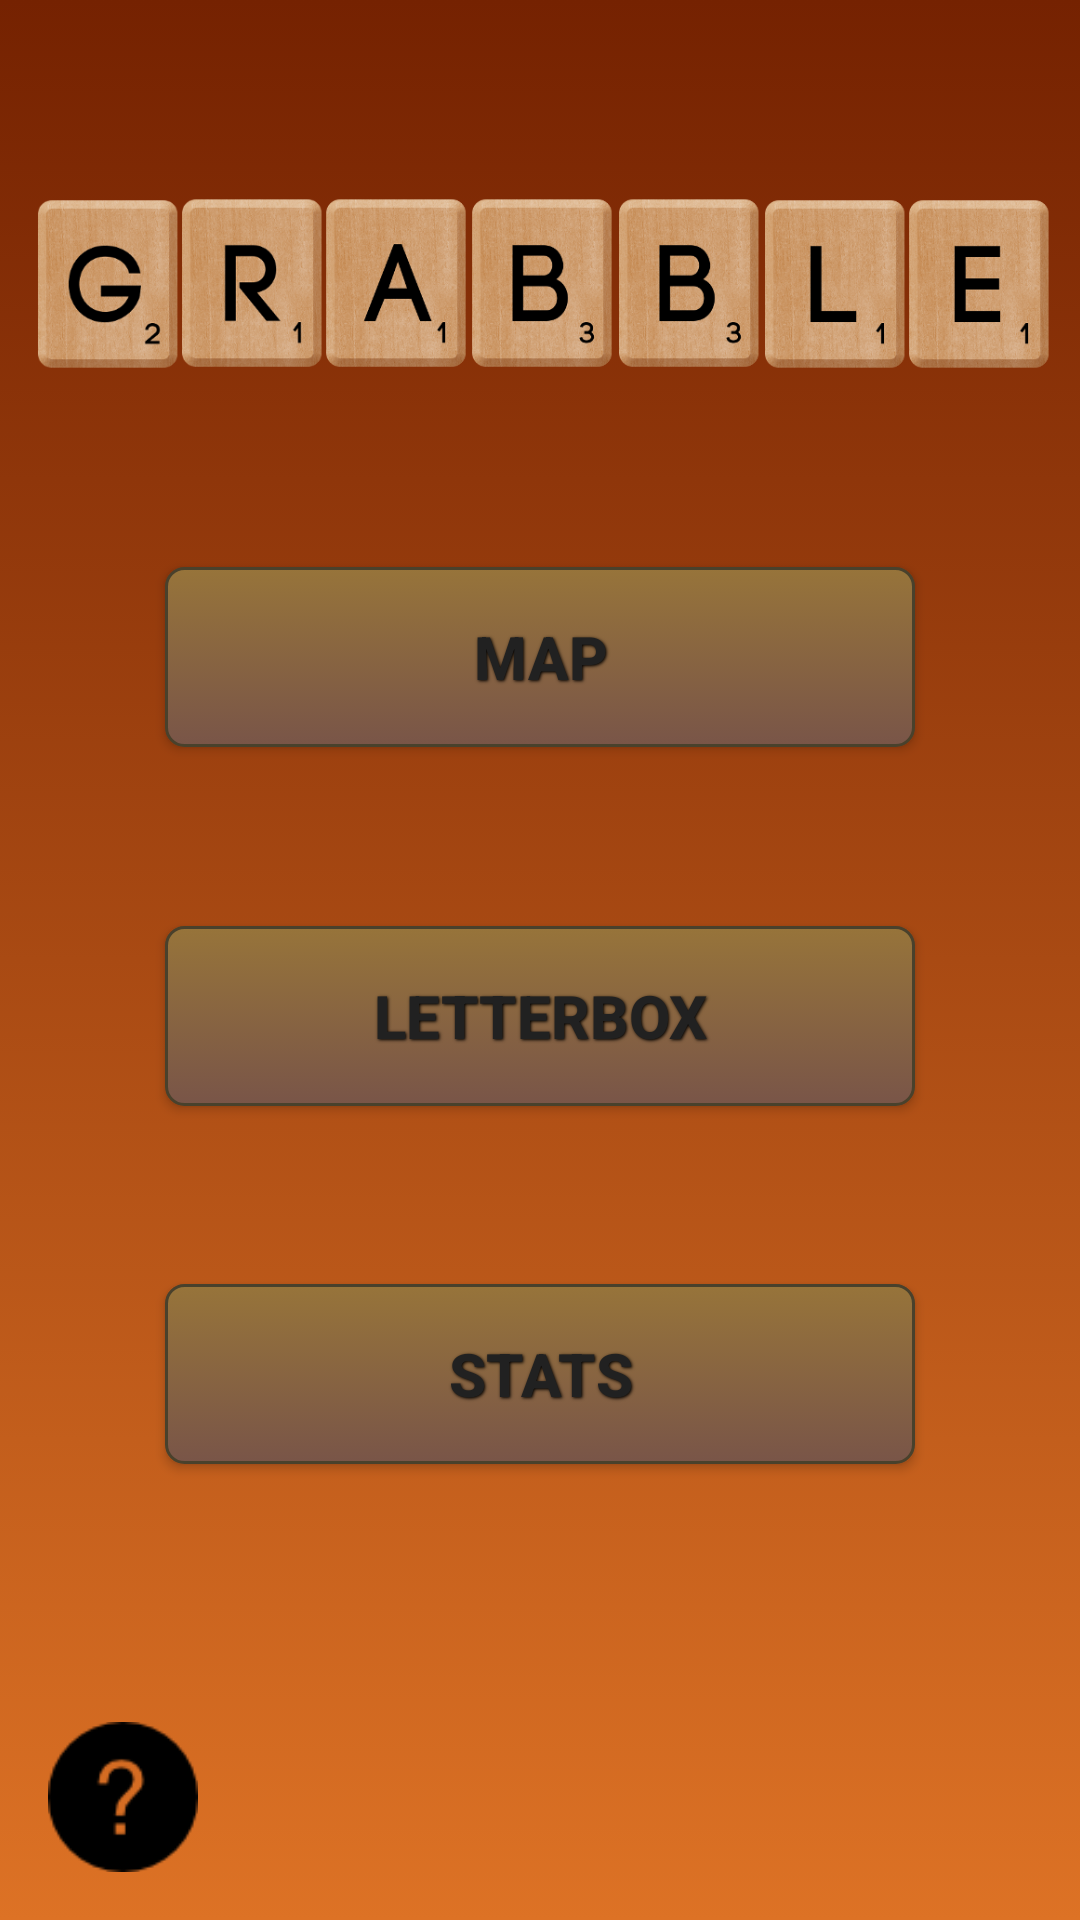

Named icons in this screenshot (1080 x 1920) and their bounding boxes, bbox(x1, y1, x2, y2):
help: bbox(48, 1722, 198, 1872)
